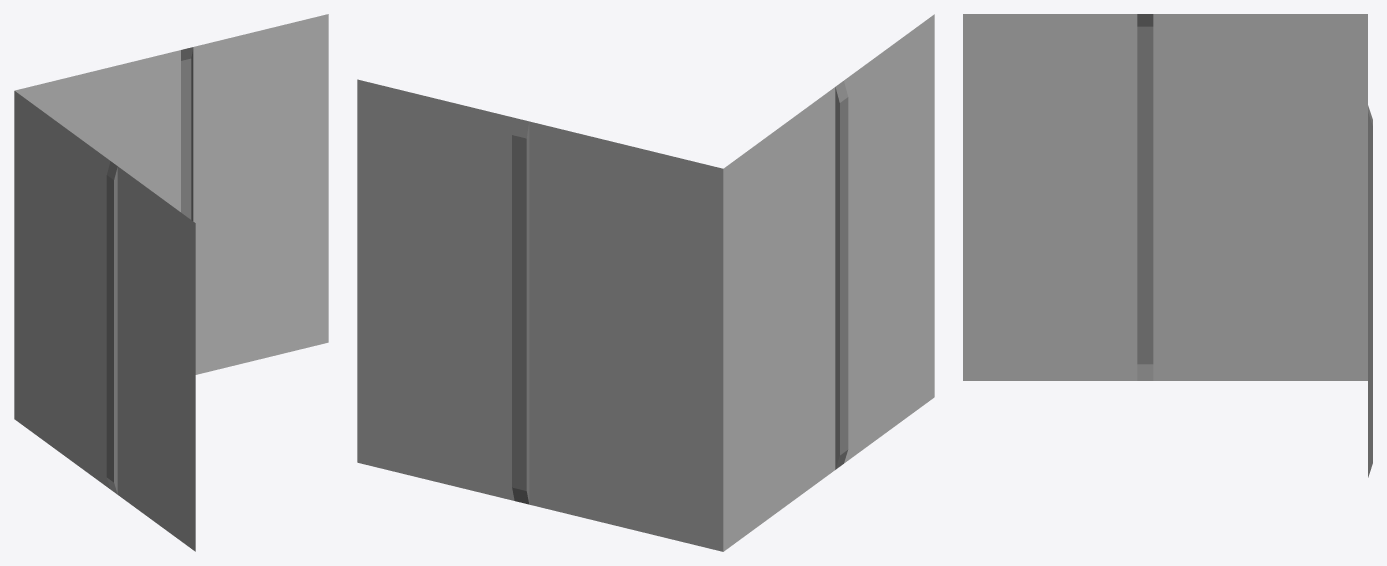
The model's file is Ext-ConcreteCornerHalfWall-Inv.fbx.
The picture shows the model from 3 angles, left to right: view 1: azimuth 30°, elevation 25°; view 2: azimuth 150°, elevation 25°; view 3: azimuth 270°, elevation 25°; orthographic projection. The views are drawn at different scales.
Parts seen in each view (by area): view 1: Ext-ConcreteCornerHalfWall-Inv; view 2: Ext-ConcreteCornerHalfWall-Inv; view 3: Ext-ConcreteCornerHalfWall-Inv.
Part boxes in pixels (x1=…): Ext-ConcreteCornerHalfWall-Inv: x1=14, y1=14, x2=328, y2=551; Ext-ConcreteCornerHalfWall-Inv: x1=357, y1=14, x2=934, y2=551; Ext-ConcreteCornerHalfWall-Inv: x1=963, y1=14, x2=1372, y2=477.
Size of the model in its own units: 101 by 100 by 101.
